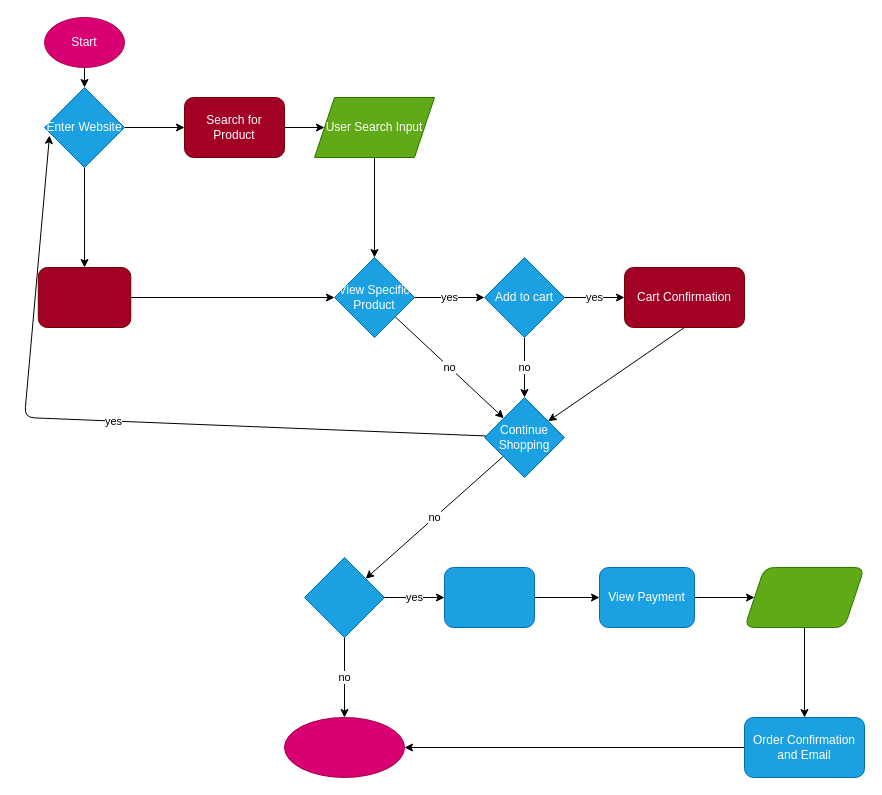
The diagram is 882 pixels wide and 795 high, and some of its shapes have lost their labels. The shapes that lost their labels are listed below. From the top down, each one's box as (x1, y1, x2, y2) in pixels, then its label:
(37, 266, 131, 328): Explore Products
(304, 556, 384, 638): Checkout
(444, 566, 534, 628): View Cart
(744, 566, 864, 628): User Payment Input
(284, 716, 404, 778): End
